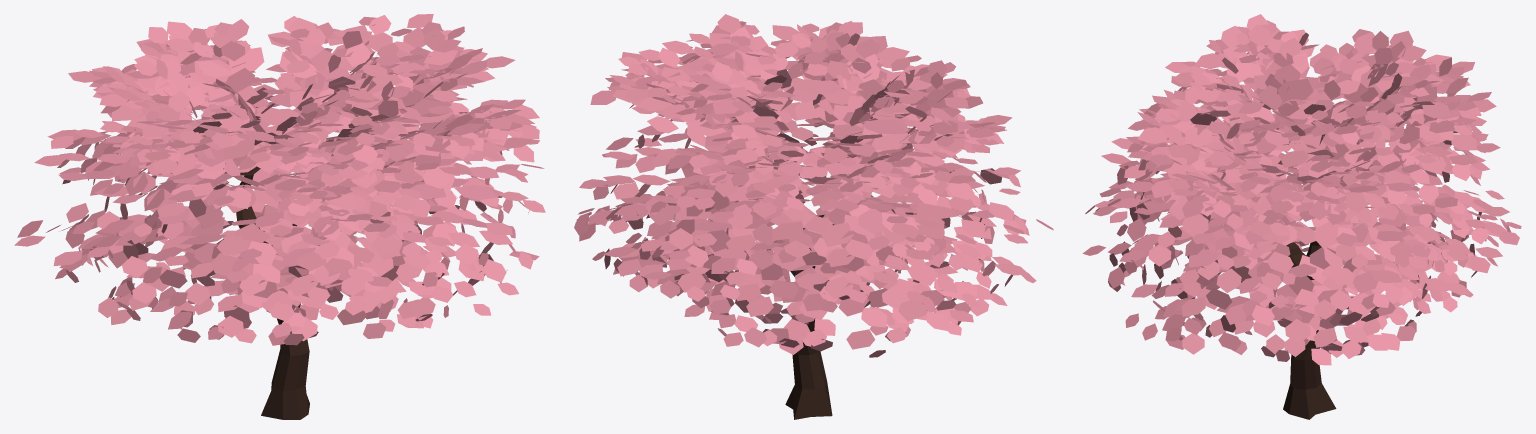
File: sakuranoki_1.glb
3 views of the same model, side by side, from view 1: azimuth 30°, elevation 25°; view 2: azimuth 150°, elevation 25°; view 3: azimuth 270°, elevation 25° (orthographic). The views are drawn at different scales.
Parts seen in each view (by area): view 1: leaves.001, 円; view 2: leaves.001, 円; view 3: leaves.001, 円.
Boxes of the visible parts, bbox=[...] form: leaves.001: bbox=[14, 14, 545, 345]; 円: bbox=[225, 166, 309, 419]; leaves.001: bbox=[574, 14, 1053, 357]; 円: bbox=[785, 214, 834, 419]; leaves.001: bbox=[1082, 14, 1521, 365]; 円: bbox=[1283, 241, 1336, 419].
Bounding box in the file's own units: 1.64 × 1.22 × 1.42.
